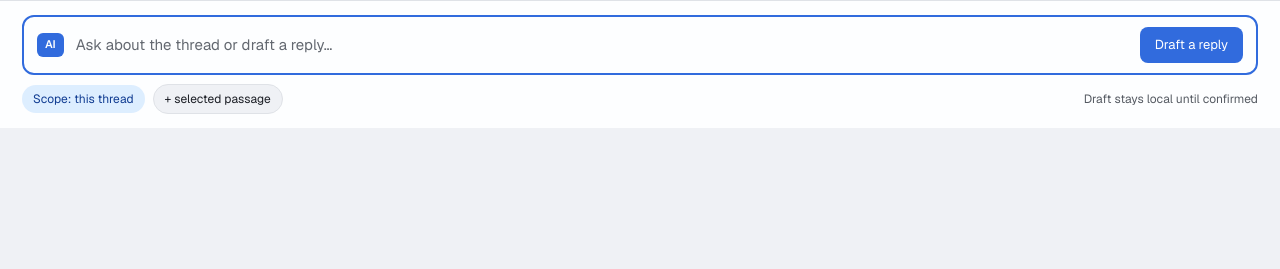
Test: ReplyDraftCard › discards the draft and puts the keyboard back on the field it was asked for in
This screenshot has width=1280, height=269.
Submit the form named "Ask about this correspondence", box [0,0,1279,128]
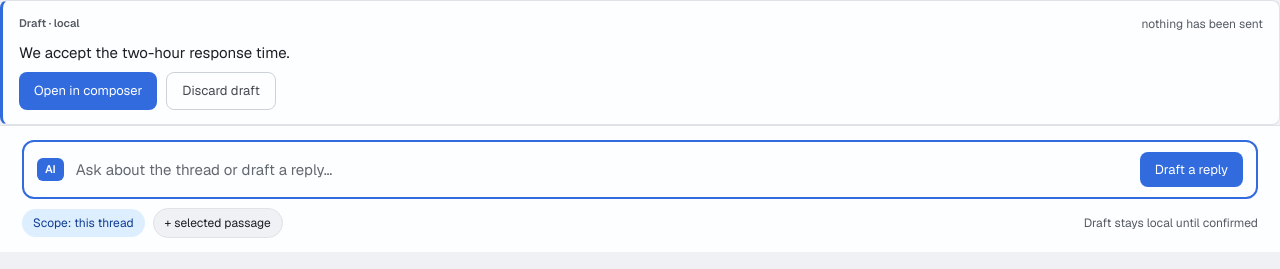
Click the button "Discard draft". click: {"x": 221, "y": 91}
box: [166,72,276,110]
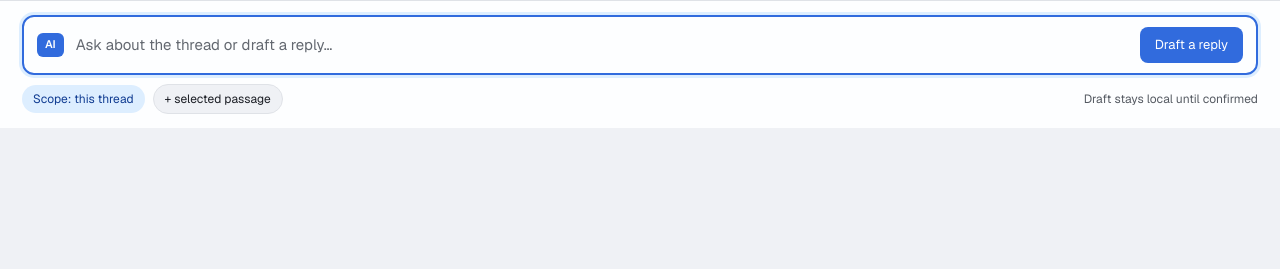
Expected: the text "Draft · local" is gone
